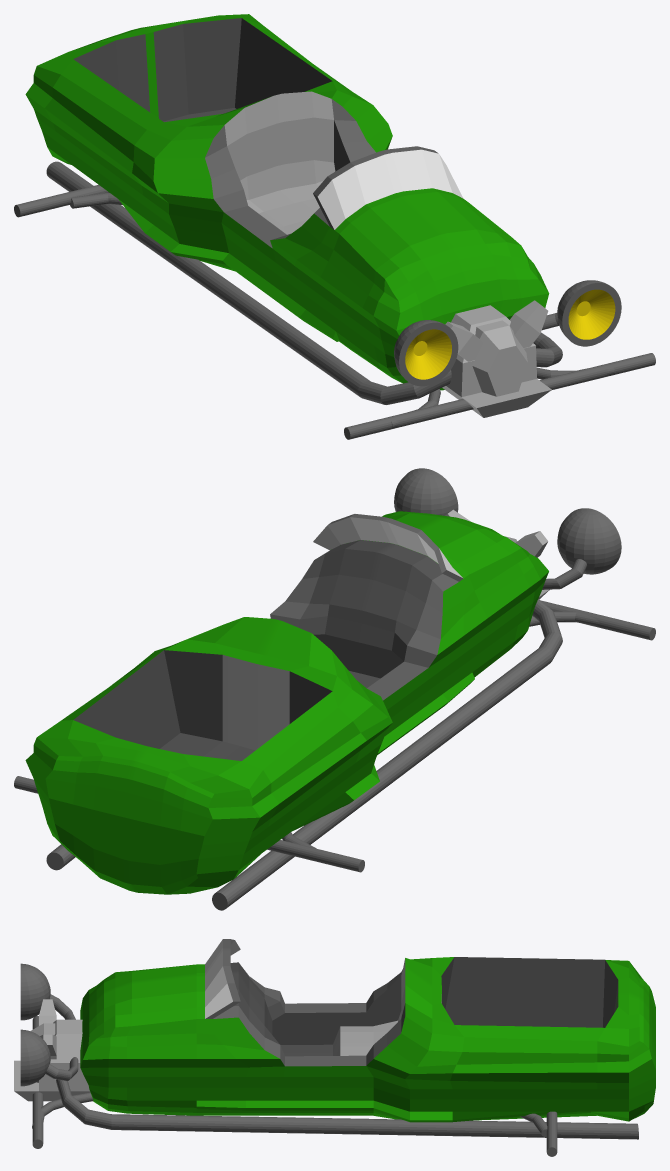
File: AceNSpadeBody.fbx
The picture shows the model from 3 angles, top to bottom: view 1: azimuth 30°, elevation 25°; view 2: azimuth 150°, elevation 25°; view 3: azimuth 270°, elevation 25°; orthographic projection. The views are drawn at different scales.
Visible parts, largest first — view 1: WholeCarBody2; view 2: WholeCarBody2; view 3: WholeCarBody2.
Part boxes in pixels (x1,y1,x2,y2): WholeCarBody2: (14, 14, 655, 439); WholeCarBody2: (14, 468, 655, 910); WholeCarBody2: (14, 939, 655, 1156).
Size of the model in its own units: 12.45 by 6.56 by 24.26.
